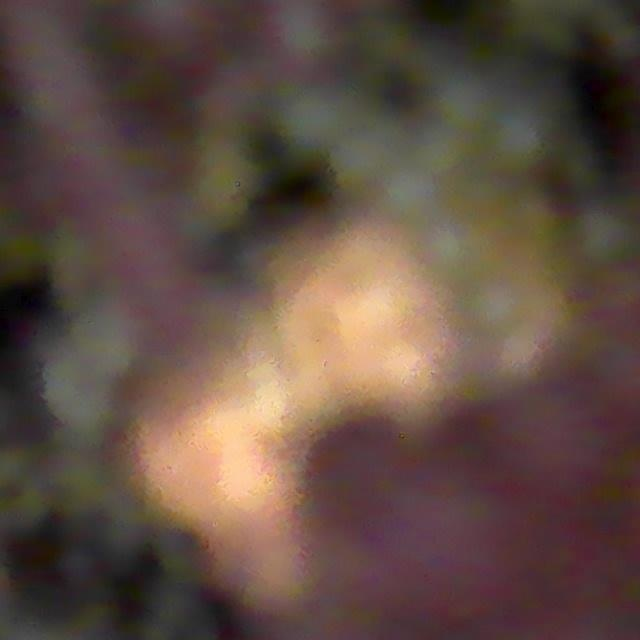SeaGrape: (573, 204, 638, 267)
